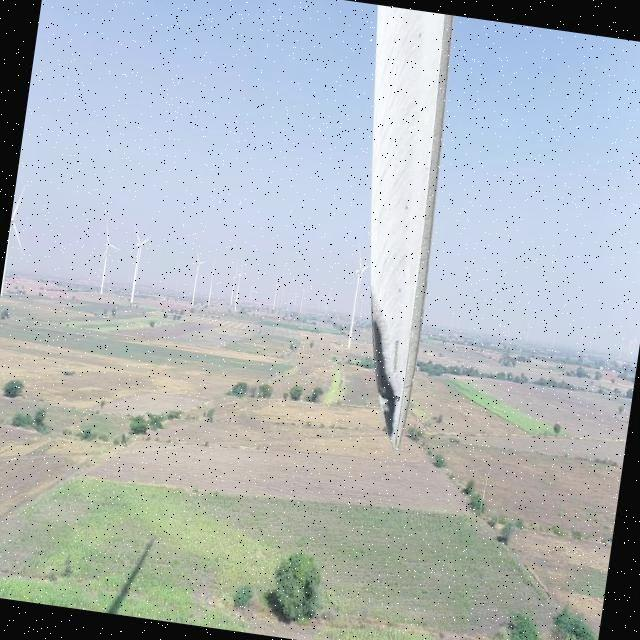Dirt: (370, 5, 448, 452)
Oil LEAKAGE: (370, 320, 396, 432)
Pin Hole: (416, 28, 425, 42), (390, 393, 401, 404), (397, 286, 406, 298), (404, 202, 411, 212)
